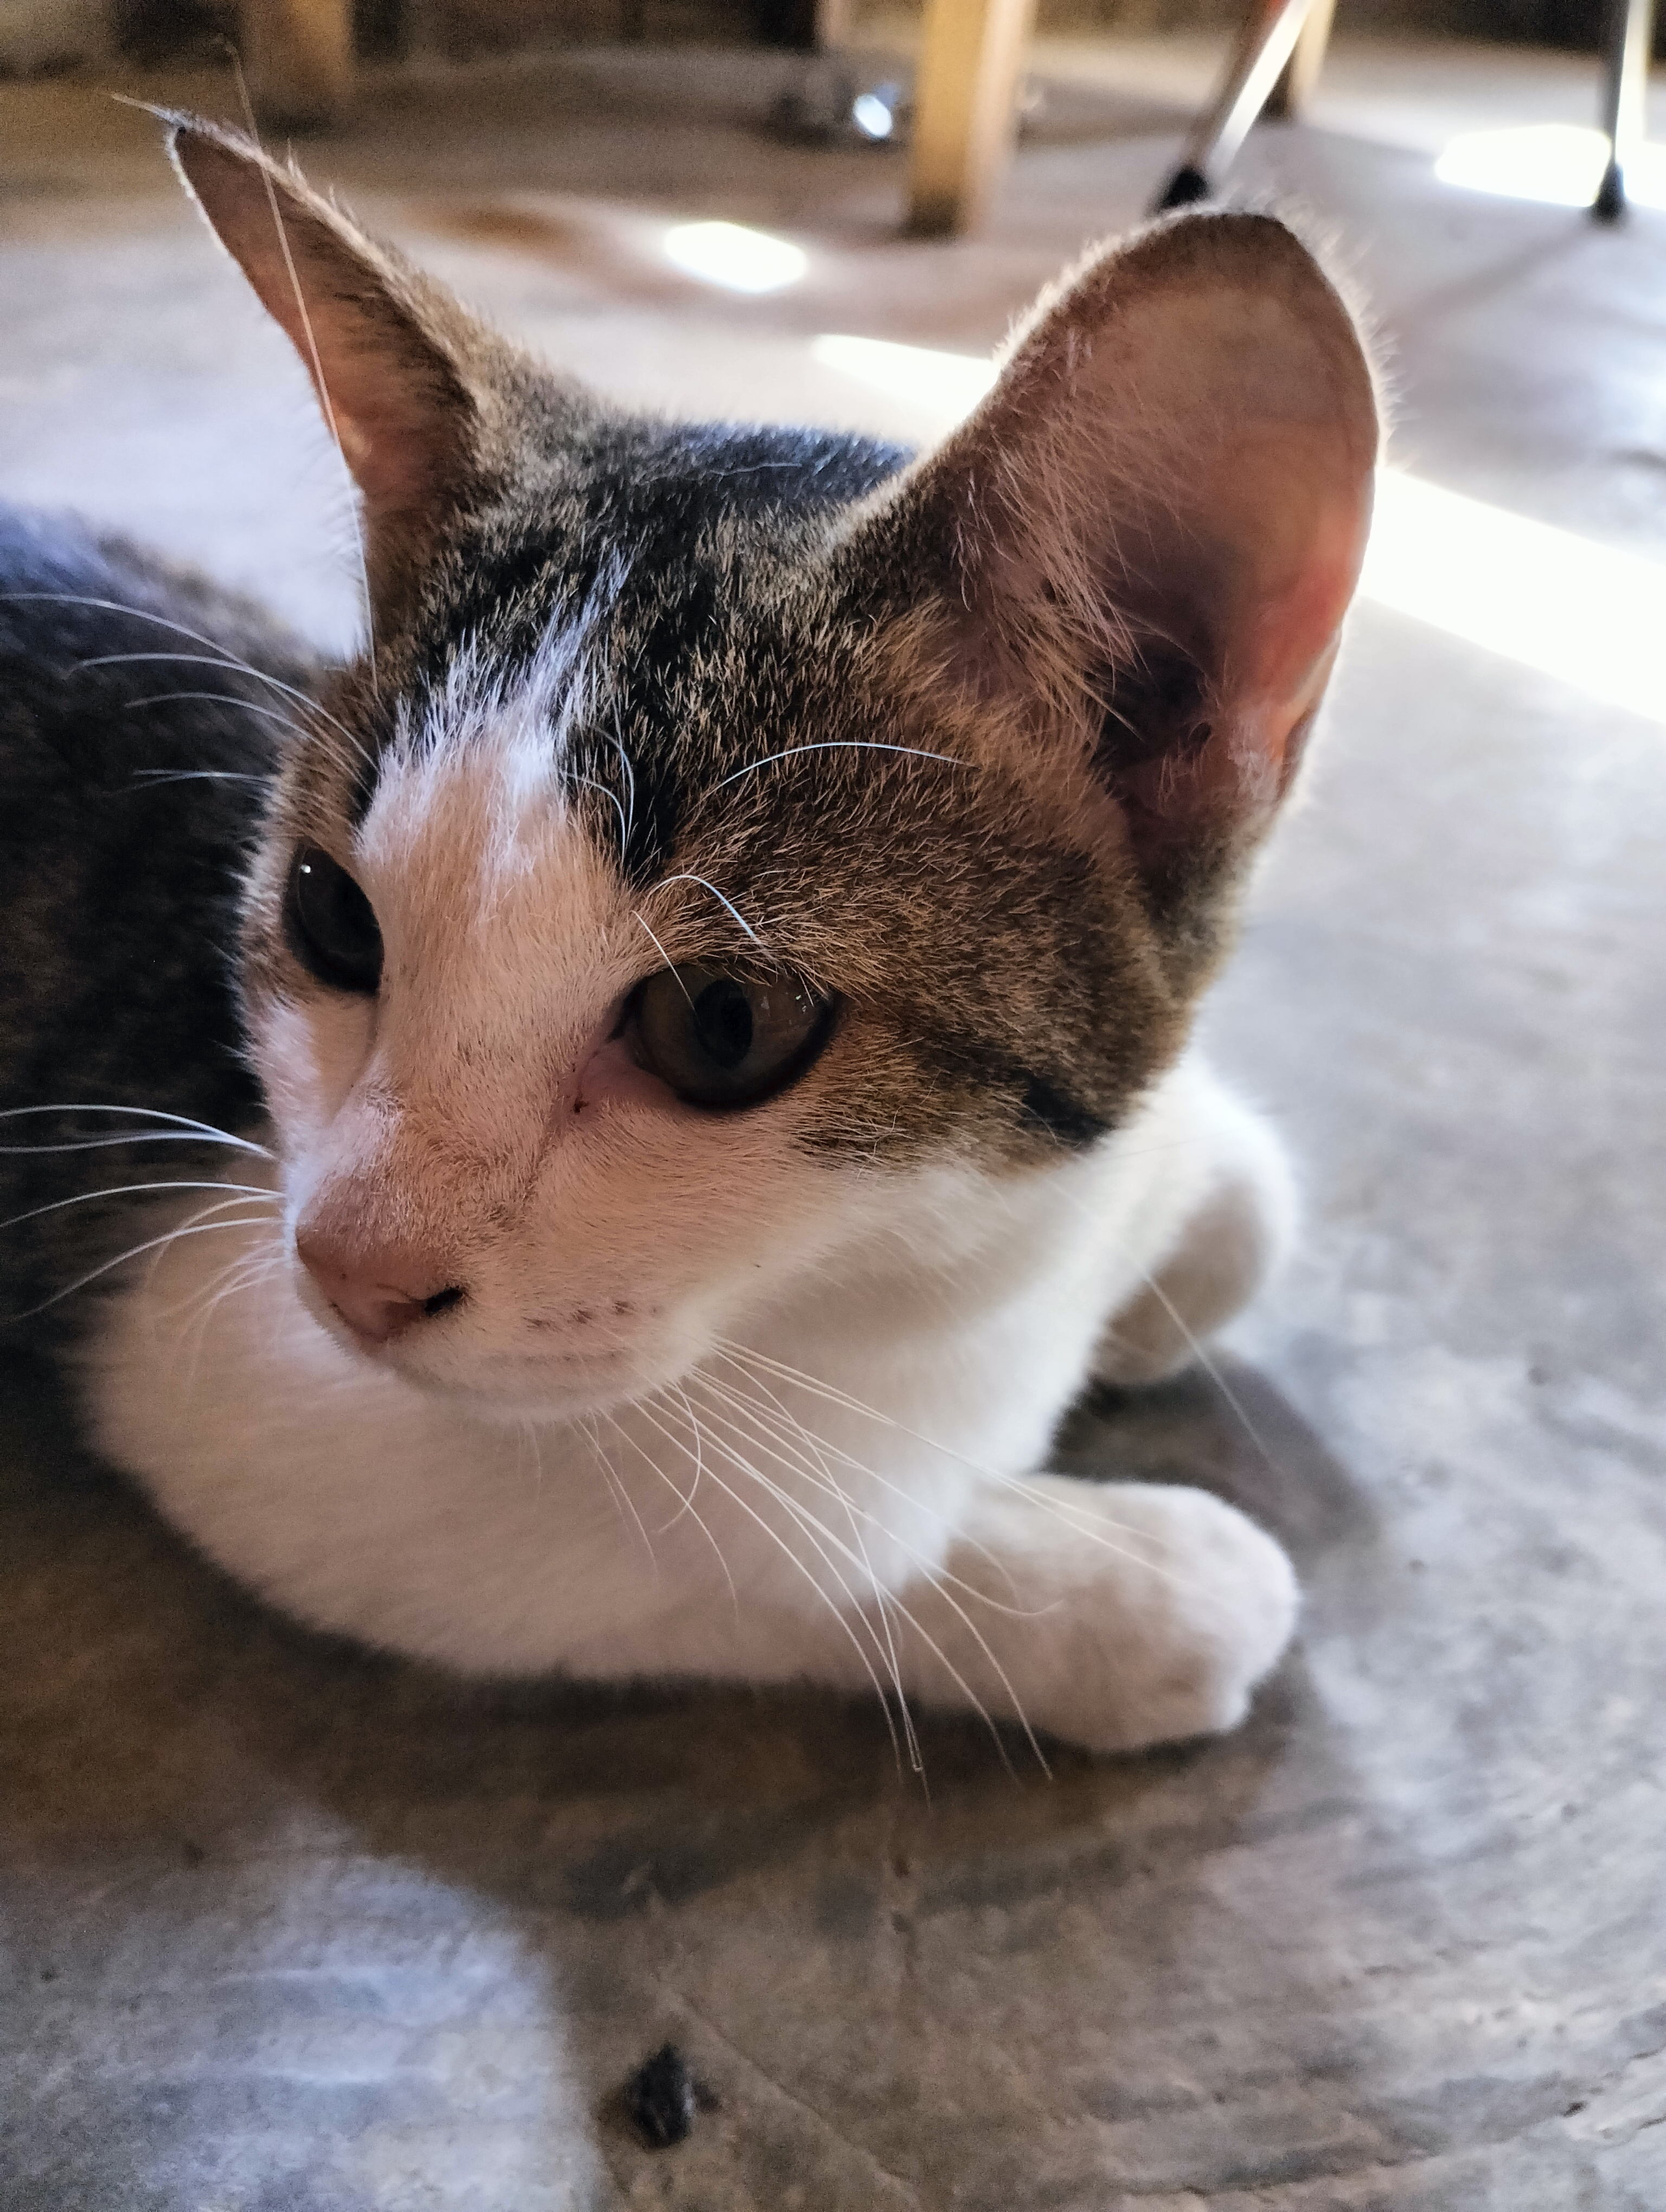miki: (110, 61, 1447, 1534)
